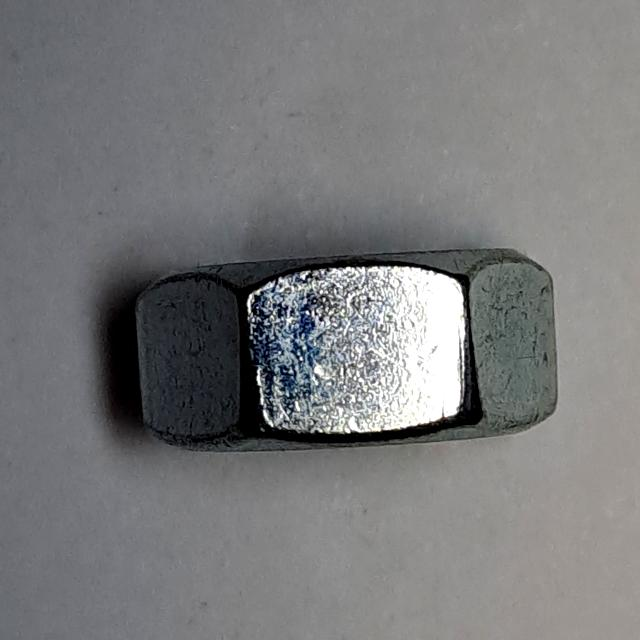Side_Excellent: (128, 220, 572, 484)
